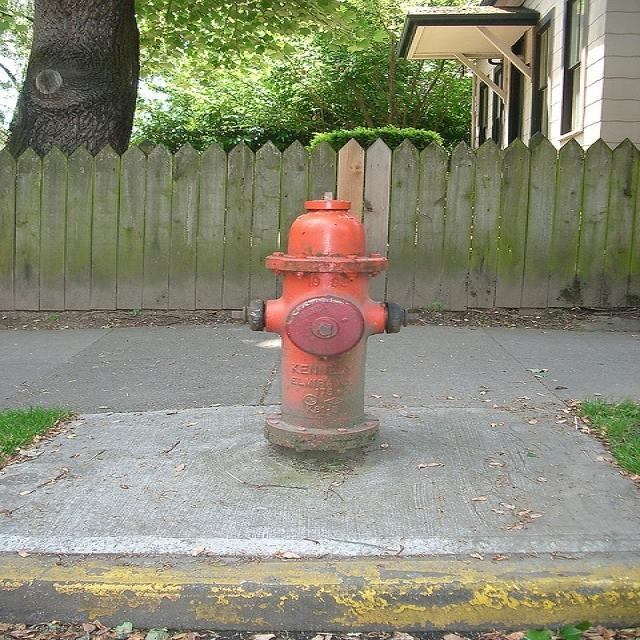fire_hydrant: (263, 197, 427, 533)
